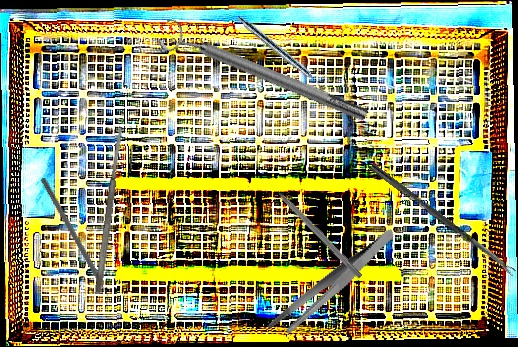Chopper: (33, 176, 116, 311)
Dressing Forceps: (251, 227, 414, 341)
Fixation Ring: (155, 14, 373, 134)
Handpiece: (234, 13, 328, 93)
Hook Surgical: (266, 178, 364, 280)
Spatula Surgical: (93, 126, 126, 295)
Surgical Spoon: (368, 162, 517, 278)
